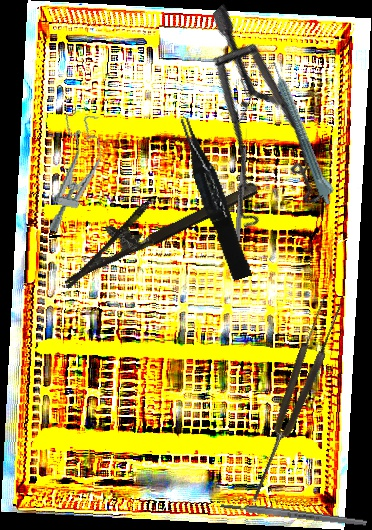Handpiece: (268, 57, 340, 207)
Hook Surgical: (231, 127, 252, 274)
Needle Holder: (48, 156, 260, 289)
Scalpel Handle: (219, 501, 368, 528)
Speculum: (120, 3, 370, 252), (40, 107, 110, 238)
Tissue Forceps: (240, 295, 346, 507), (176, 112, 253, 284)
